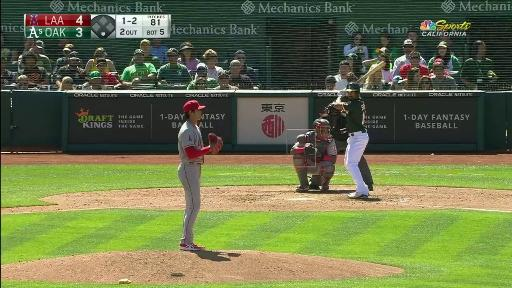pitcher: (176, 100, 223, 252)
